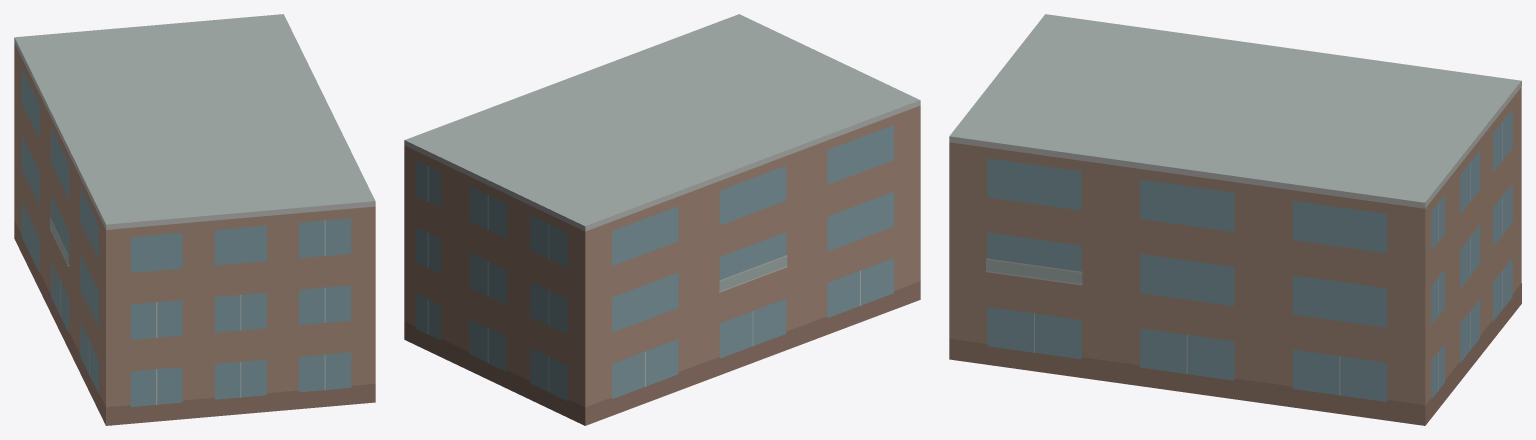
File: survey-upis-32885626.glb
3 renders of one model, left to right at view 1: azimuth 30°, elevation 25°; view 2: azimuth 150°, elevation 25°; view 3: azimuth 270°, elevation 25°, orthographic. The views are drawn at different scales.
Visible parts, largest first — view 1: survey-upis-32885626.tmp; view 2: survey-upis-32885626.tmp; view 3: survey-upis-32885626.tmp.
Part boxes in pixels (box(x1,y1,x2,y2)): survey-upis-32885626.tmp: box(14, 14, 375, 425); survey-upis-32885626.tmp: box(404, 14, 920, 425); survey-upis-32885626.tmp: box(949, 14, 1521, 425).
Size of the model in its own units: 16.61 by 9.15 by 21.29.
